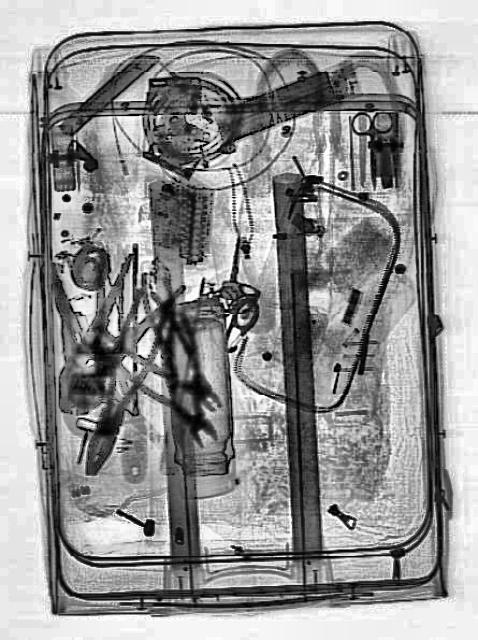Pliers: (35, 234, 187, 434), (68, 279, 176, 486), (114, 306, 241, 472), (124, 301, 234, 433)
